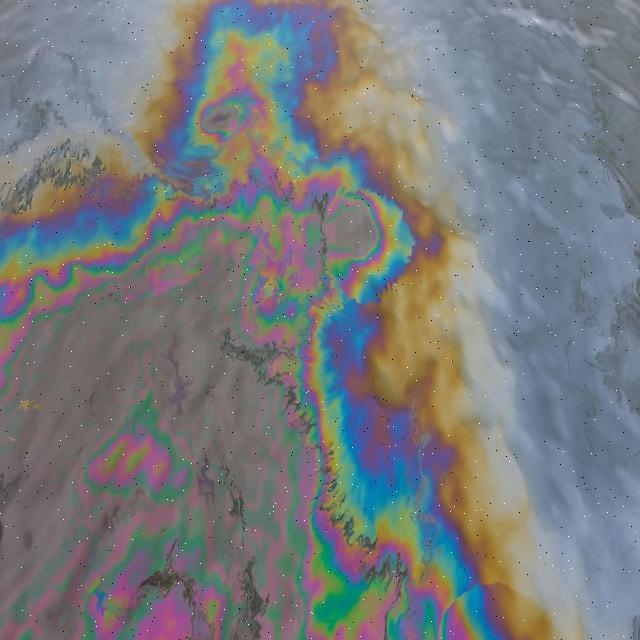oil: (0, 3, 577, 640)
